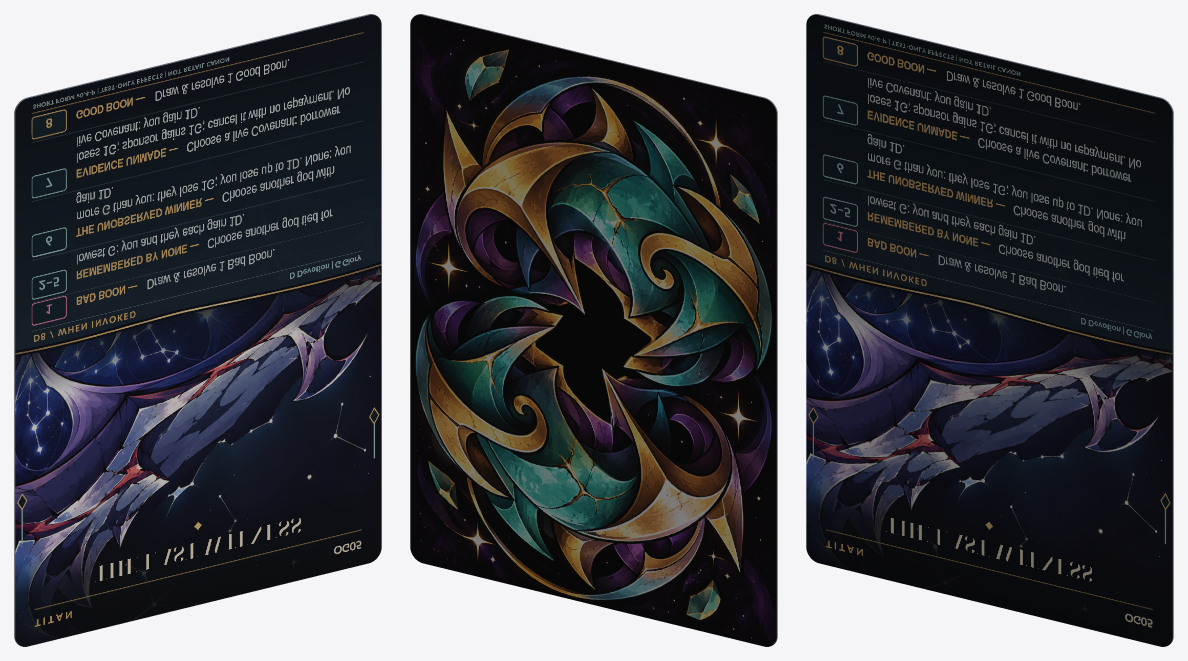
Rendered from SGLD_OG05_The_Last_Witness_3D_Card_v0.1-P_UNAPPROVED.glb.
3 views of the same model, side by side, from view 1: azimuth 30°, elevation 25°; view 2: azimuth 150°, elevation 25°; view 3: azimuth 330°, elevation 25° (orthographic).
Parts seen in each view (by area): view 1: OG05_FRONT, OG05_EDGE; view 2: OG05_BACK, OG05_EDGE; view 3: OG05_FRONT, OG05_EDGE.
Boxes of the visible parts, box(x1,y1,x2,y2) form: OG05_FRONT: box(15, 15, 381, 646); OG05_EDGE: box(14, 14, 381, 646); OG05_BACK: box(410, 15, 776, 646); OG05_EDGE: box(410, 14, 777, 646); OG05_FRONT: box(806, 15, 1172, 646); OG05_EDGE: box(806, 14, 1173, 646).
Size of the model in its own units: 0.0889 by 0.127 by 0.00035.
3 materials, 2 textured.
